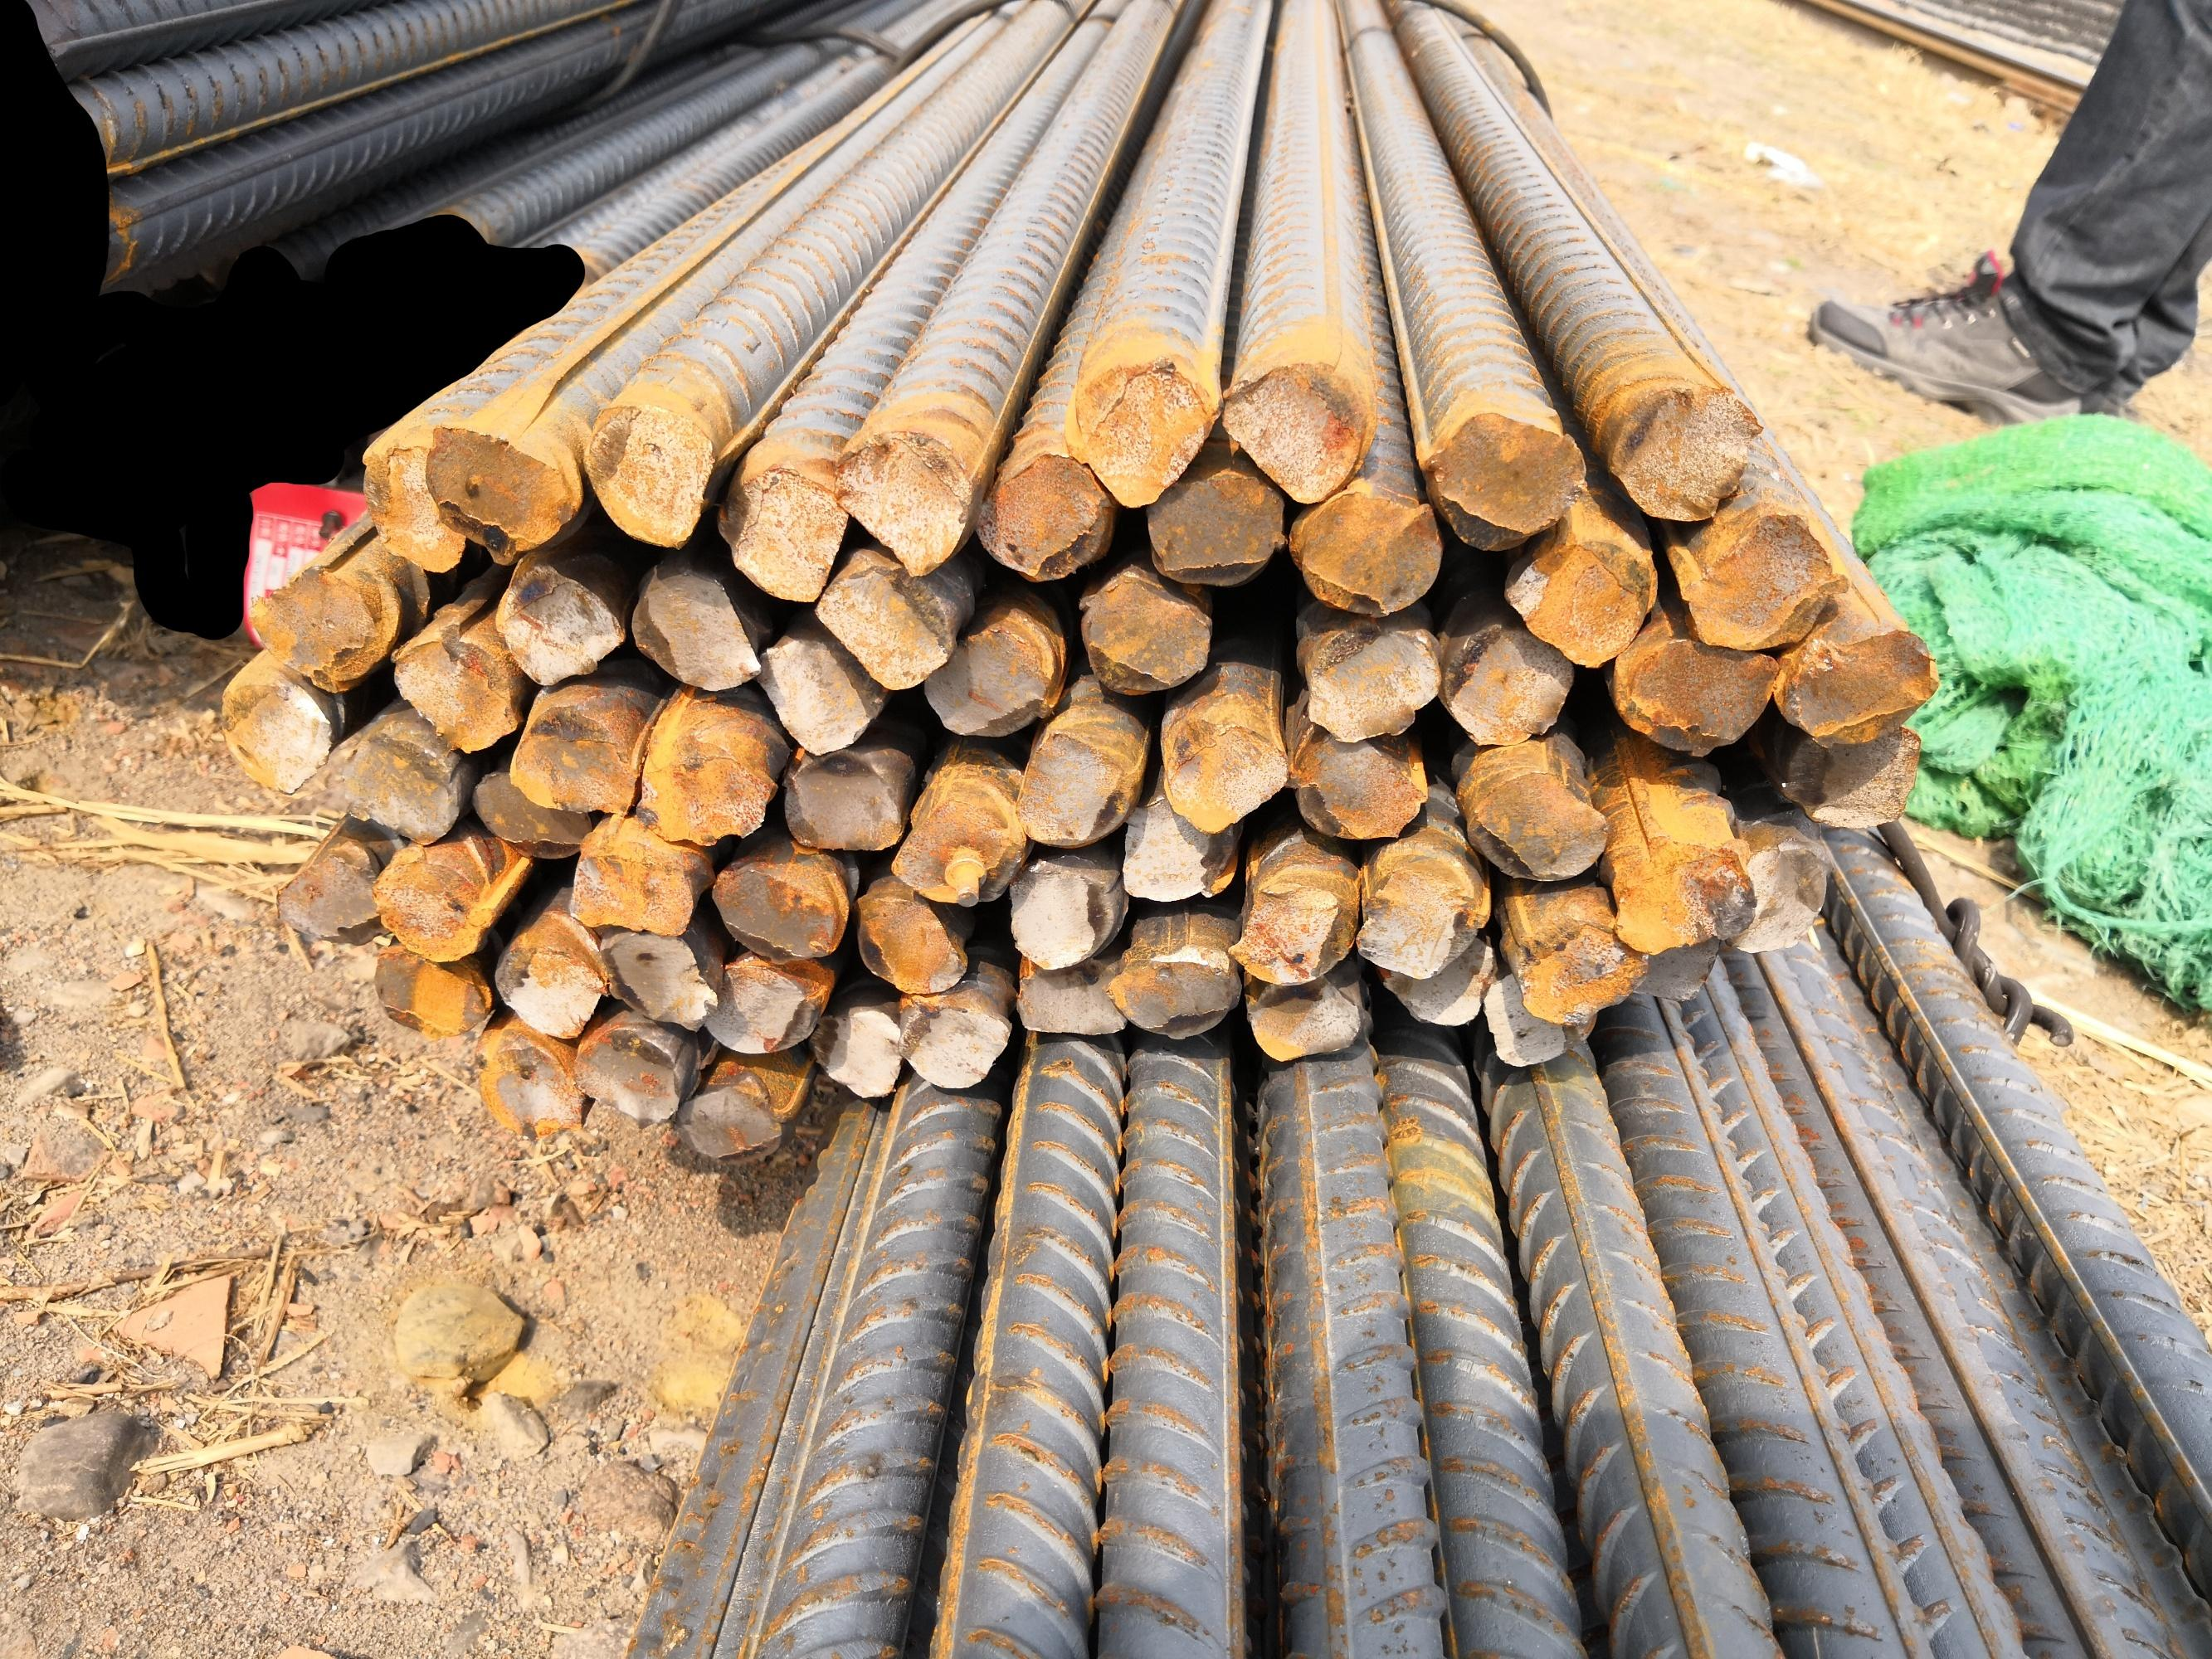bar: (1417, 403, 1590, 555), (1219, 353, 1376, 508), (1676, 512, 1849, 653), (1065, 352, 1218, 510), (415, 416, 570, 567), (1610, 631, 1780, 766), (1282, 479, 1446, 616), (1501, 526, 1654, 674), (826, 427, 974, 578), (1610, 379, 1763, 526), (809, 543, 959, 692), (712, 462, 850, 610), (583, 399, 714, 552), (883, 774, 1026, 912), (1784, 629, 1946, 748), (488, 547, 626, 686), (976, 452, 1116, 586), (1300, 615, 1443, 747), (1142, 464, 1289, 590), (629, 554, 763, 692), (1438, 616, 1577, 748), (1073, 565, 1211, 697), (237, 564, 384, 686), (1283, 722, 1429, 843), (748, 630, 887, 757), (1610, 837, 1760, 954), (1464, 766, 1608, 886), (920, 617, 1060, 741), (1506, 914, 1653, 1032), (386, 629, 519, 757), (499, 690, 636, 815), (1352, 858, 1490, 979), (632, 730, 774, 846), (352, 436, 470, 574), (704, 854, 847, 967), (1781, 718, 1922, 829), (1013, 723, 1134, 852), (1160, 713, 1286, 833), (339, 726, 459, 847), (213, 674, 333, 796), (1474, 961, 1606, 1070), (361, 934, 498, 1039), (556, 834, 697, 937), (367, 857, 495, 968), (997, 854, 1118, 972), (1229, 869, 1352, 984), (845, 885, 971, 996), (781, 747, 910, 854), (465, 1032, 589, 1141), (597, 924, 718, 1037), (692, 954, 820, 1058), (1119, 788, 1229, 907), (1107, 946, 1238, 1045), (486, 938, 604, 1048), (1376, 930, 1500, 1033), (887, 990, 1014, 1090), (1723, 839, 1828, 957), (570, 1019, 682, 1126), (465, 764, 591, 859), (1244, 972, 1369, 1067), (797, 995, 905, 1104), (1005, 957, 1128, 1047), (269, 851, 381, 949), (668, 1082, 787, 1168), (1622, 921, 1729, 1011)
